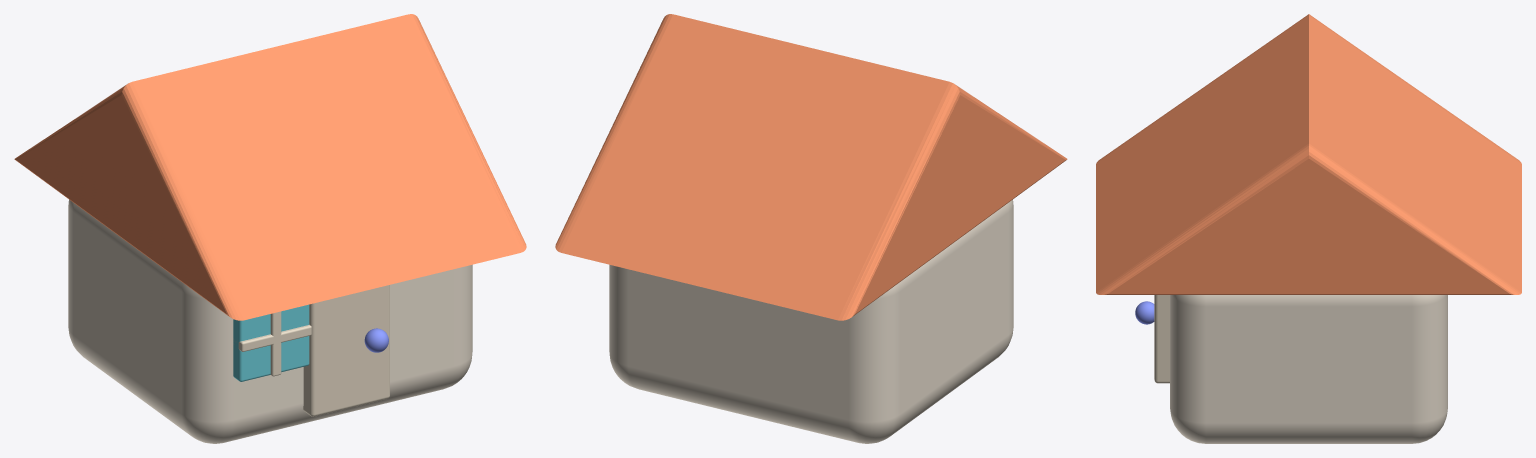
The model's file is home.glb.
3 renders of one model, left to right at view 1: azimuth 30°, elevation 25°; view 2: azimuth 150°, elevation 25°; view 3: azimuth 270°, elevation 25°, orthographic. The views are drawn at different scales.
Size of the model in its own units: 1.04 by 1.09 by 1.35.
